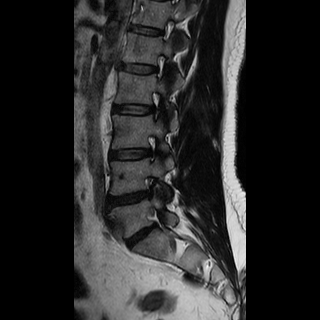LFS0: (147, 49, 168, 82)
LFS1: (140, 129, 164, 167), (145, 85, 166, 125)
